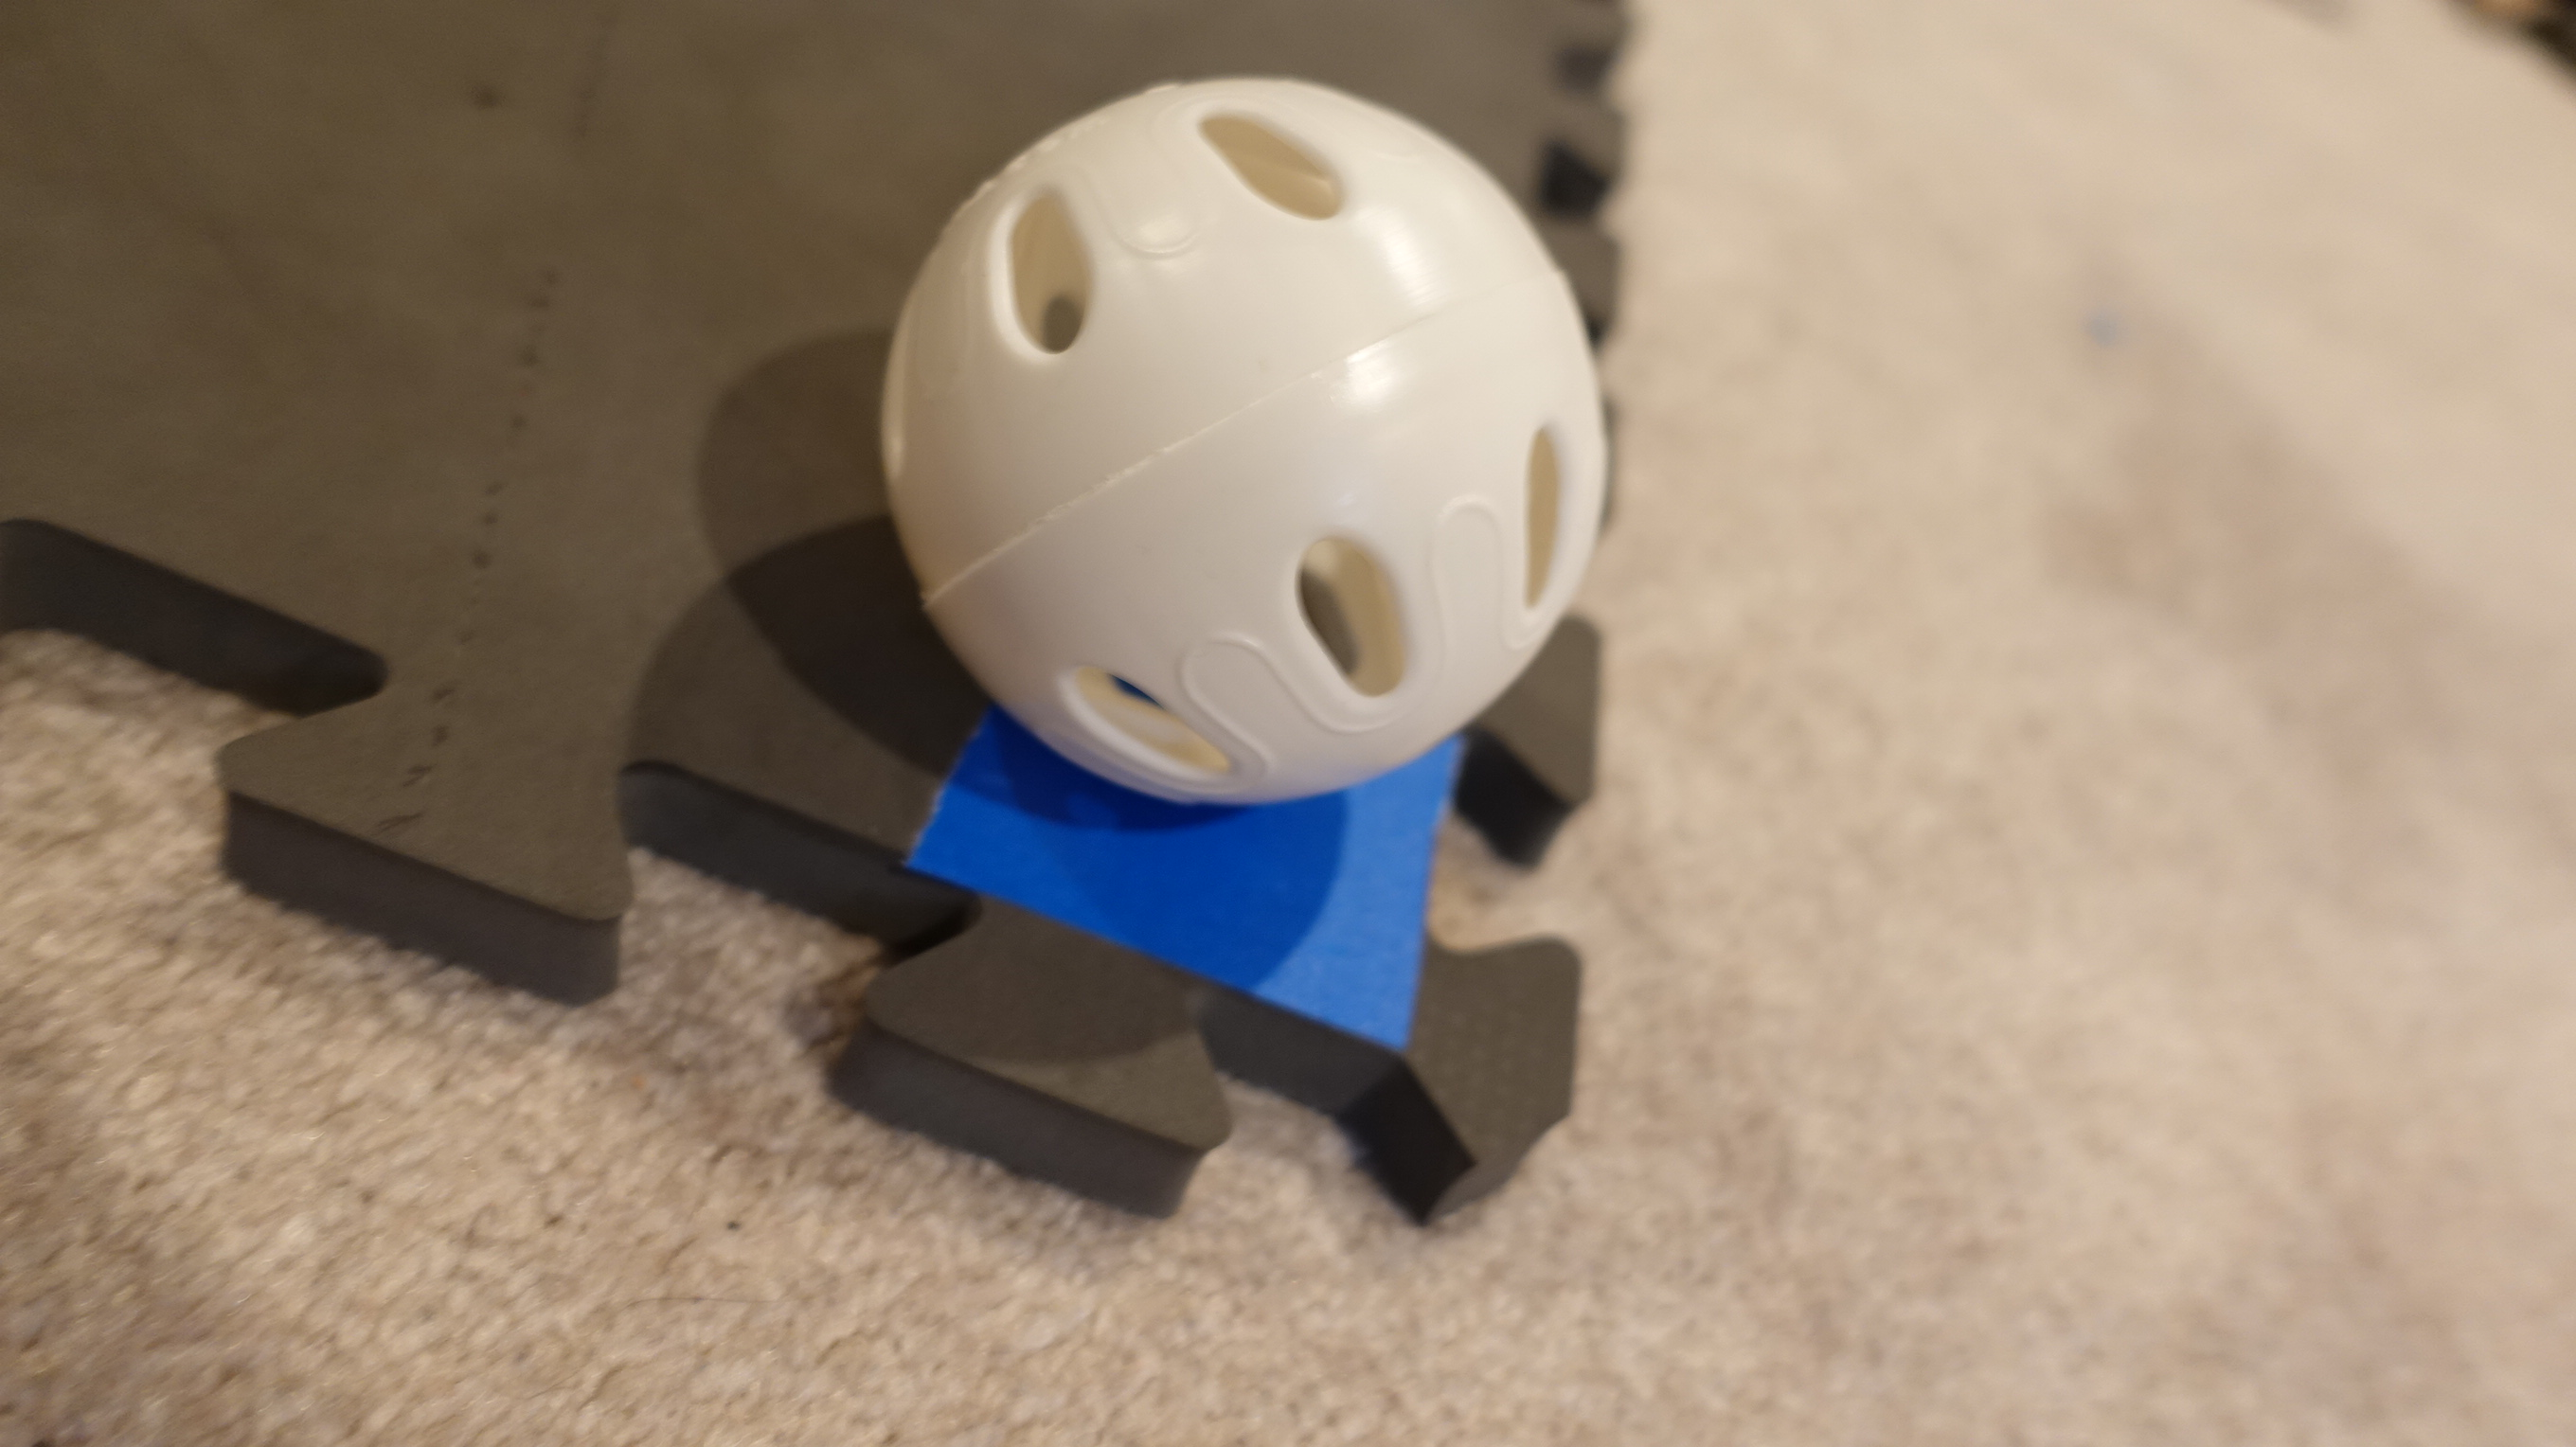silver: (862, 62, 1621, 828)
